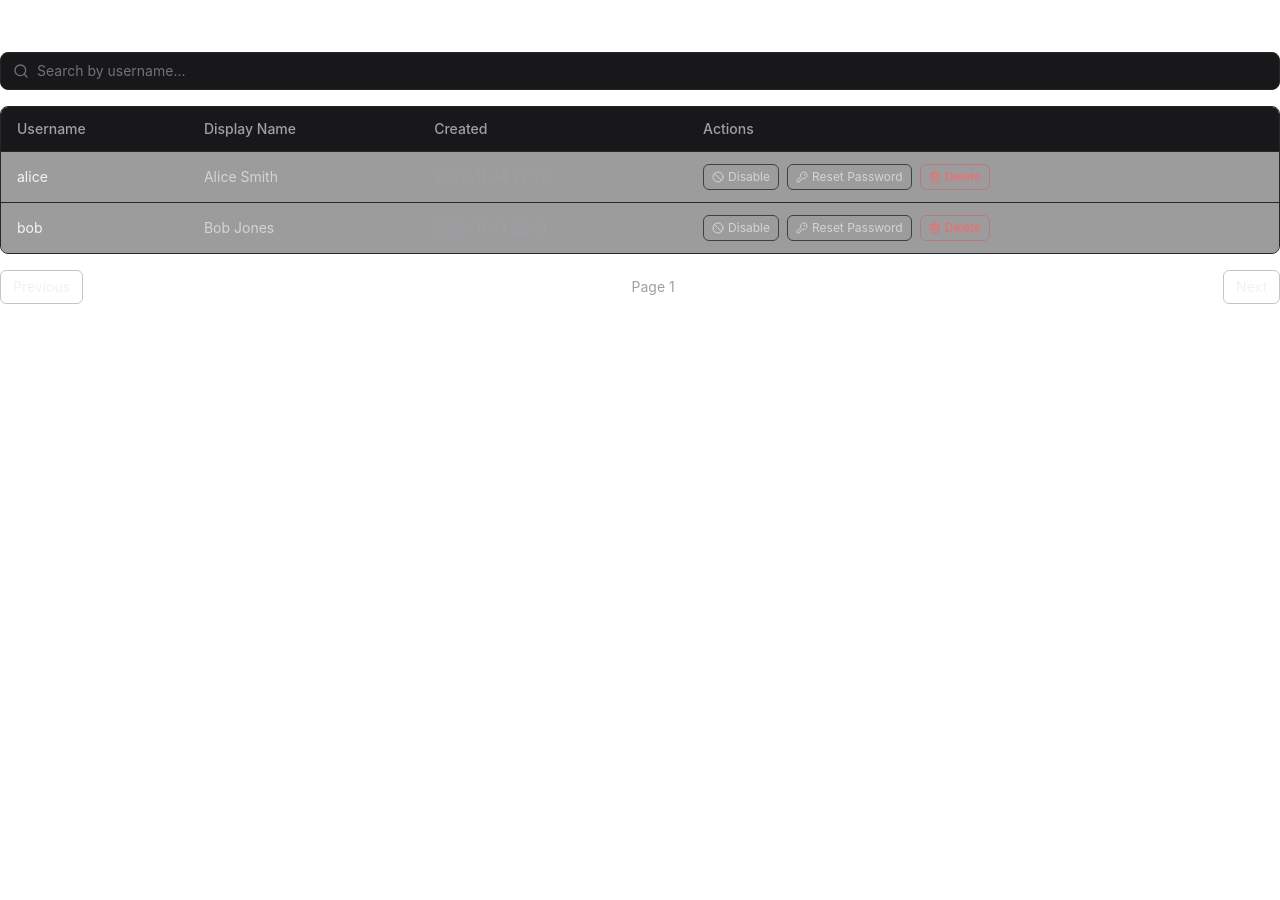
it: AdminUsersPage › weak password shows inline 422 validation error from backend
Step 1. Click the button "Reset Password" in the row of "Alice Smith" → (849, 177), box [787,164,912,190]
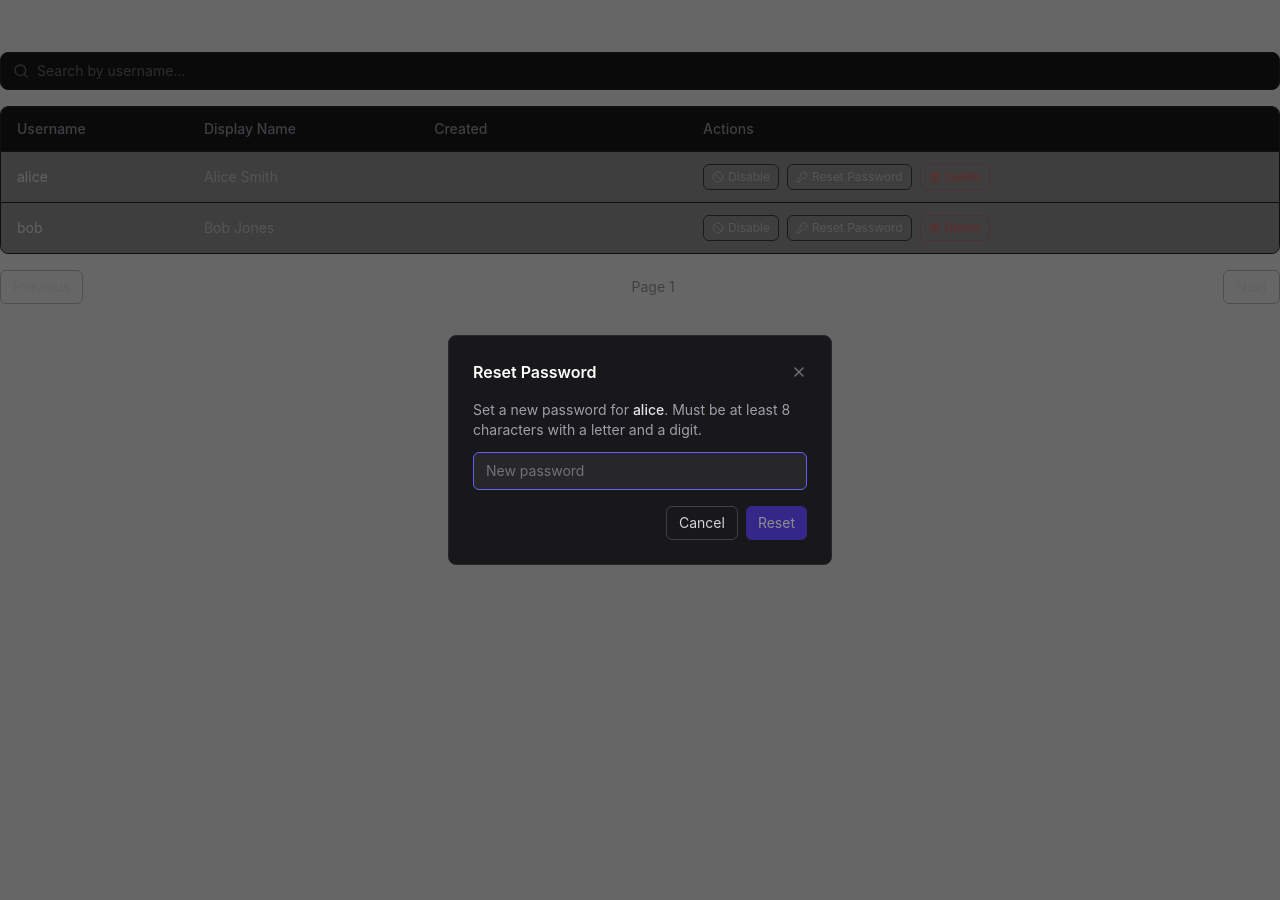
Step 2. Type "abc" into the password field with placeholder "New password" → (640, 471), box [473,452,807,490]
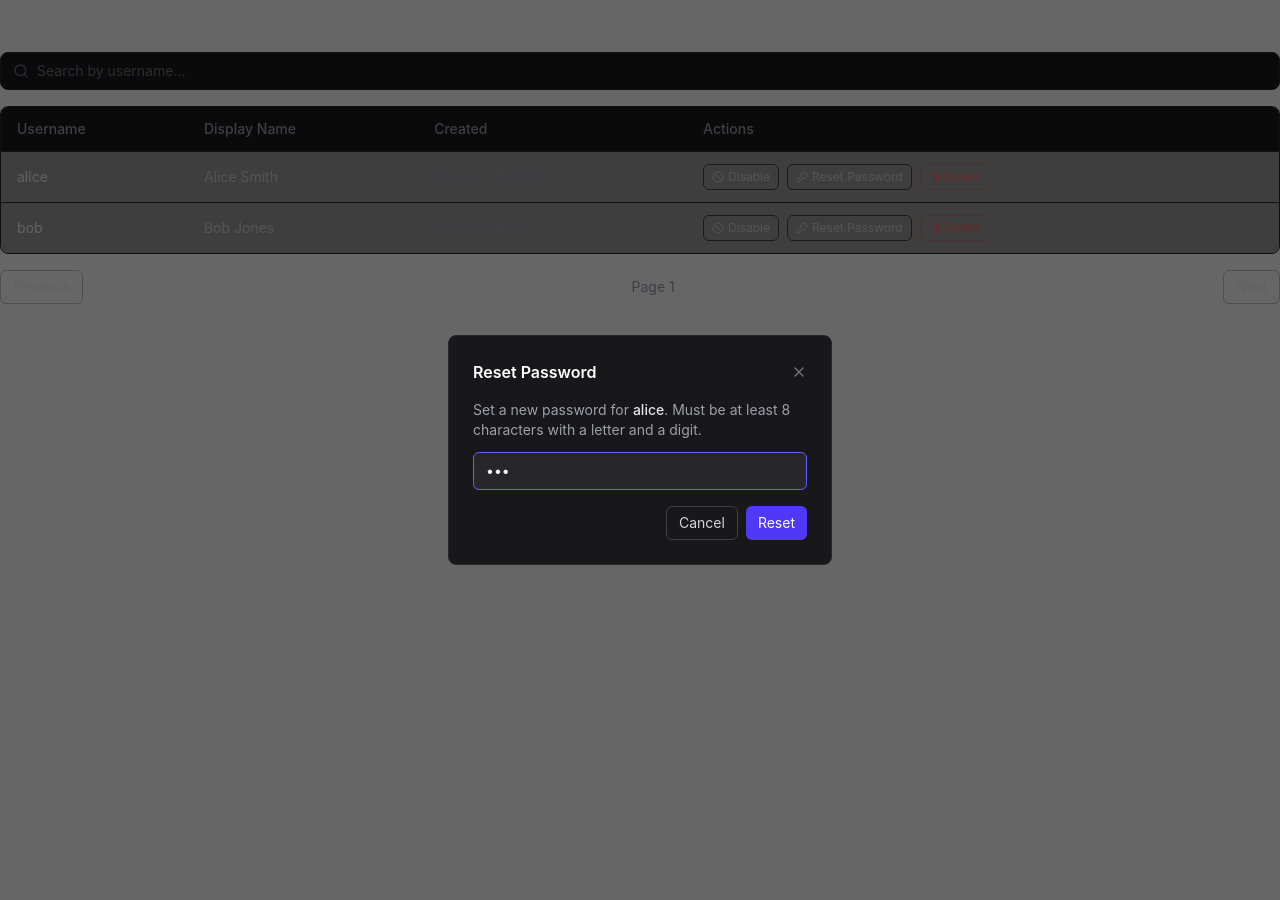
Step 3. Click the button "Reset" → (776, 523), box [746,506,807,540]
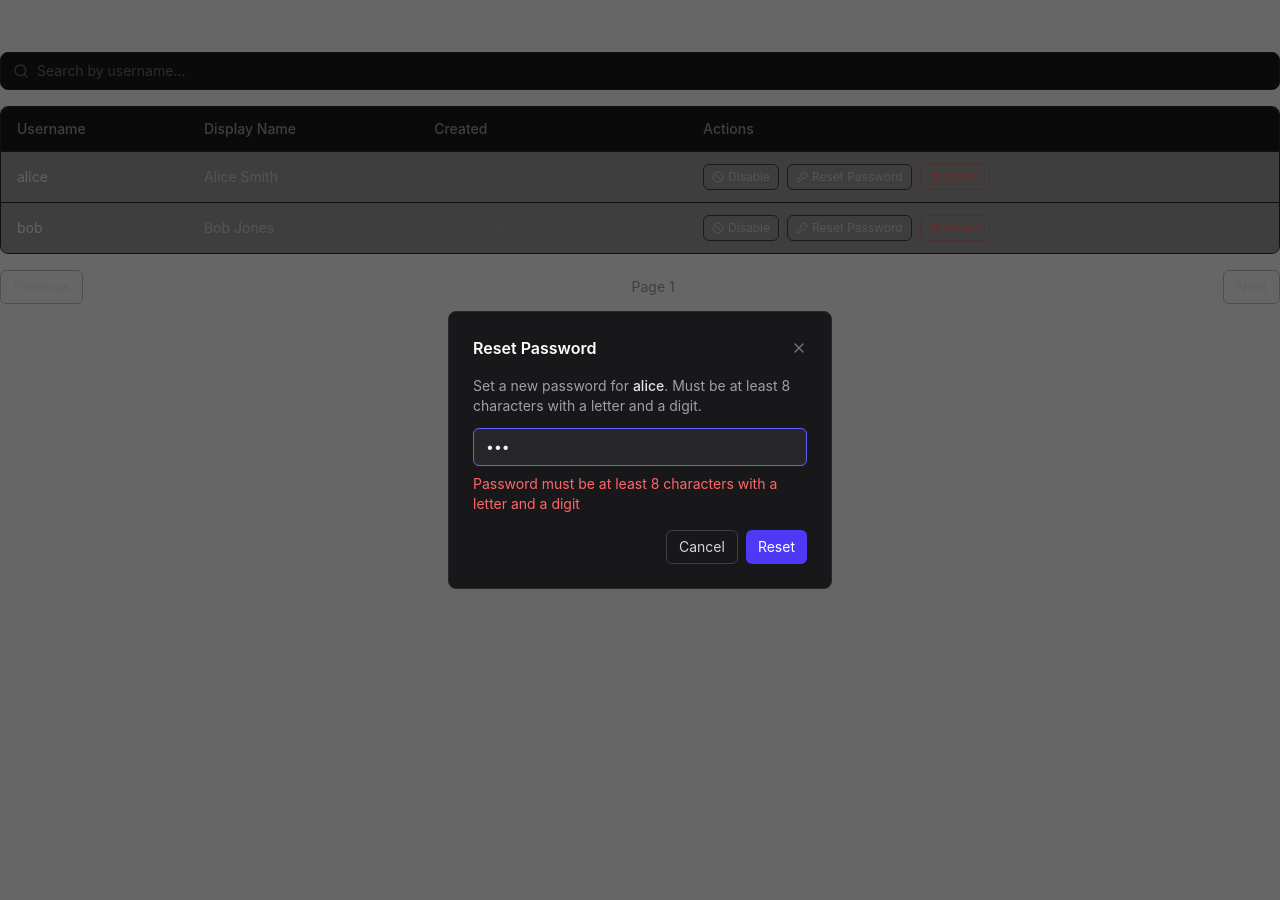
Expected: the text "Password must be at least 8 characters with a letter and a digit" is shown, [473,474,807,514]
